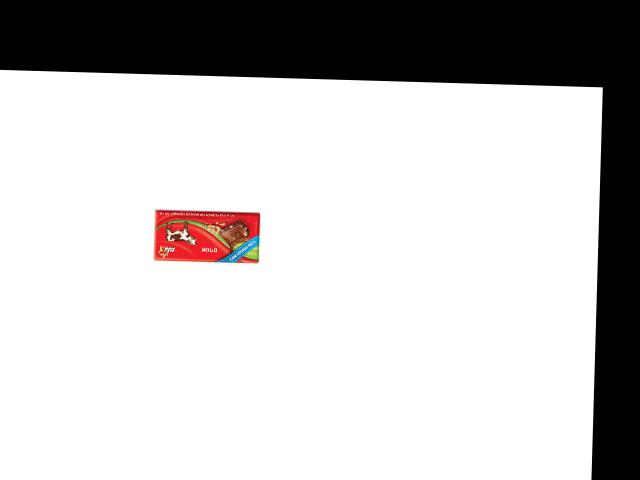chocolate: (149, 210, 259, 263)
